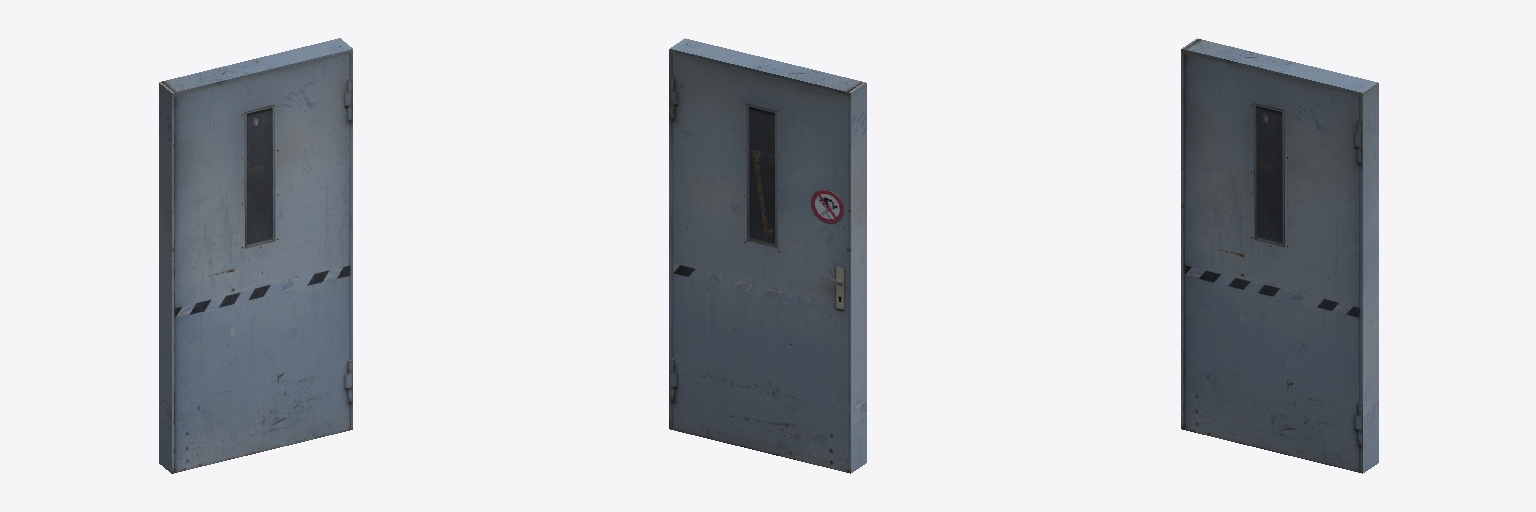
3 views of the same model, side by side, from view 1: azimuth 30°, elevation 25°; view 2: azimuth 150°, elevation 25°; view 3: azimuth 330°, elevation 25° (orthographic).
Parts seen in each view (by area): view 1: Cube_Cube.001; view 2: Cube_Cube.001; view 3: Cube_Cube.001.
Part boxes in pixels (x1,y1,x2,y2): Cube_Cube.001: (159, 38, 352, 473); Cube_Cube.001: (669, 38, 866, 473); Cube_Cube.001: (1181, 38, 1378, 473).
Bounding box in the file's own units: 3.51 × 6.99 × 0.4804.
Materials: 1 (1 with a texture image).